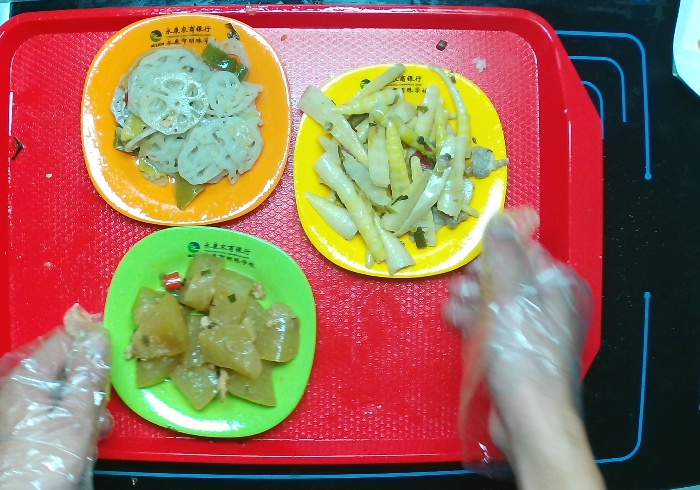YKMZ-Huang_Se_Fang_Die: (289, 57, 516, 287)
YKMZ-Ju_Se_Fang_Die: (67, 10, 299, 233)
YKMZ-Lv_Se_Fang_Die: (96, 219, 327, 447)
